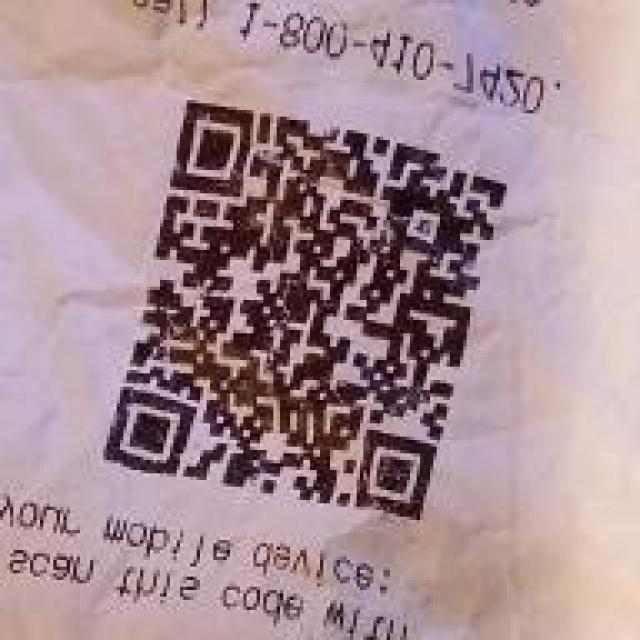QR_CODE: (93, 92, 520, 533)
